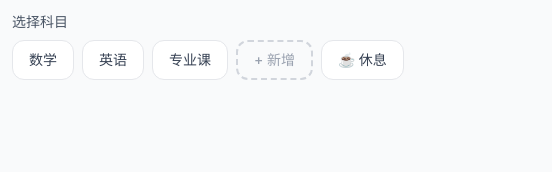
Test: SubjectSelector › 点击 + 新增 显示输入框
Expected: the text "数学" is shown, [29,51,57,68]
Click the button "+ 新增". click: (275, 60)
box: [236,40,313,80]
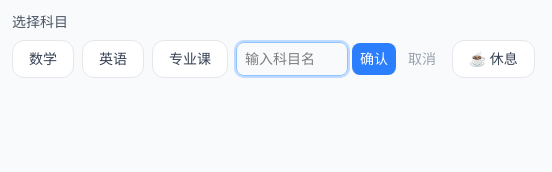
Expected: the field with placeholder "输入科目名" is shown, [236,42,348,76]
